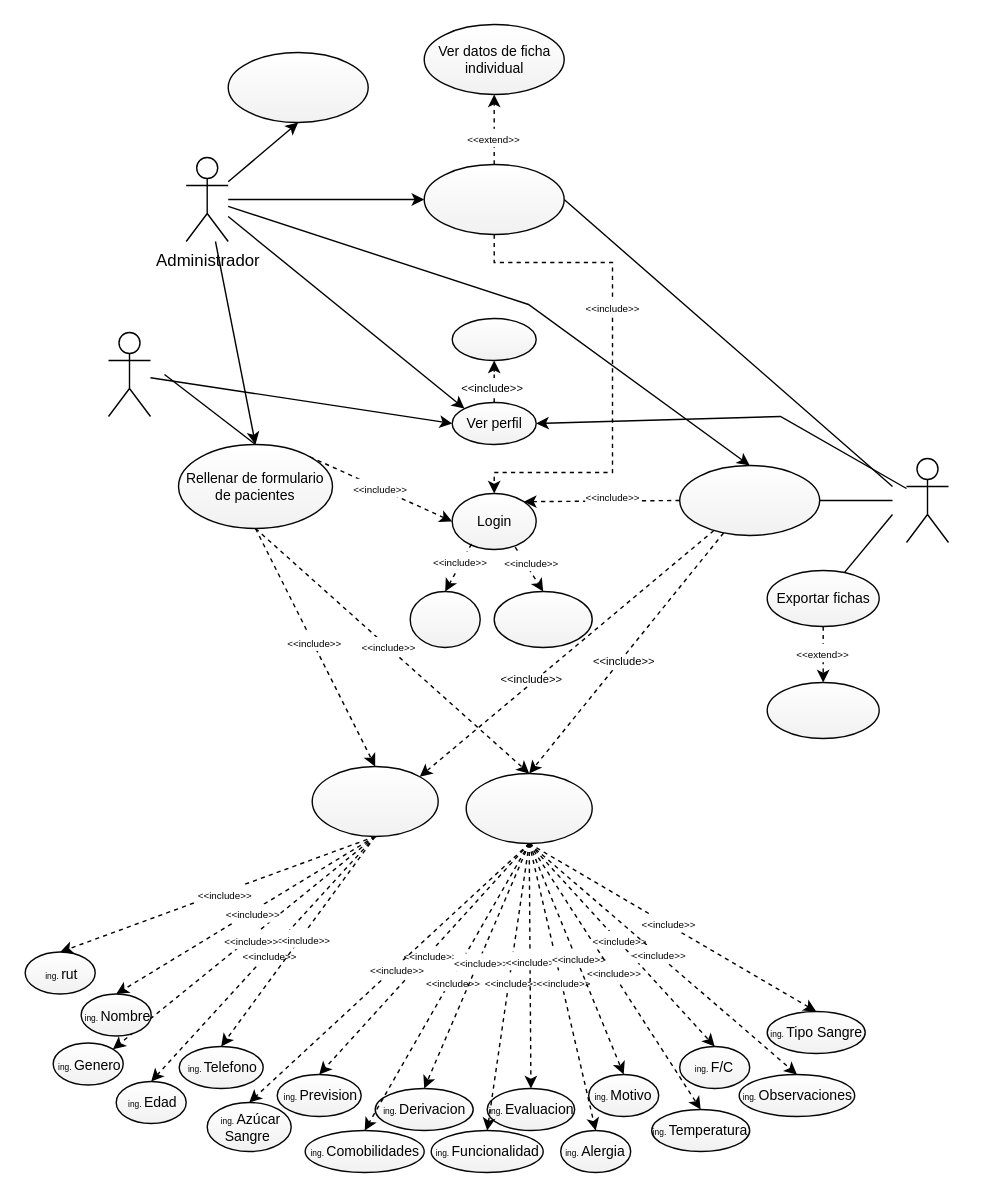
Some shapes in this 1000 by 1197 pixel diagram are drawn without their labels. The centre of each missing label's shape, as x and y in pixels:
contraseña: (x=542, y=619)
Coordinador de urgencias: (x=926, y=499)
Editar Perfil: (x=493, y=338)
Exportar en pdf: (x=822, y=709)
Modificar fichas de pacientes: (x=749, y=500)
Paramedico: (x=128, y=373)
Rellenar antecedentes medicos: (x=528, y=808)
Rellenar datos de paciente: (x=374, y=800)
rut: (x=444, y=619)
Ver listado de acciones (log): (x=297, y=86)
Ver listado de fichas mas recientes: (x=493, y=198)
